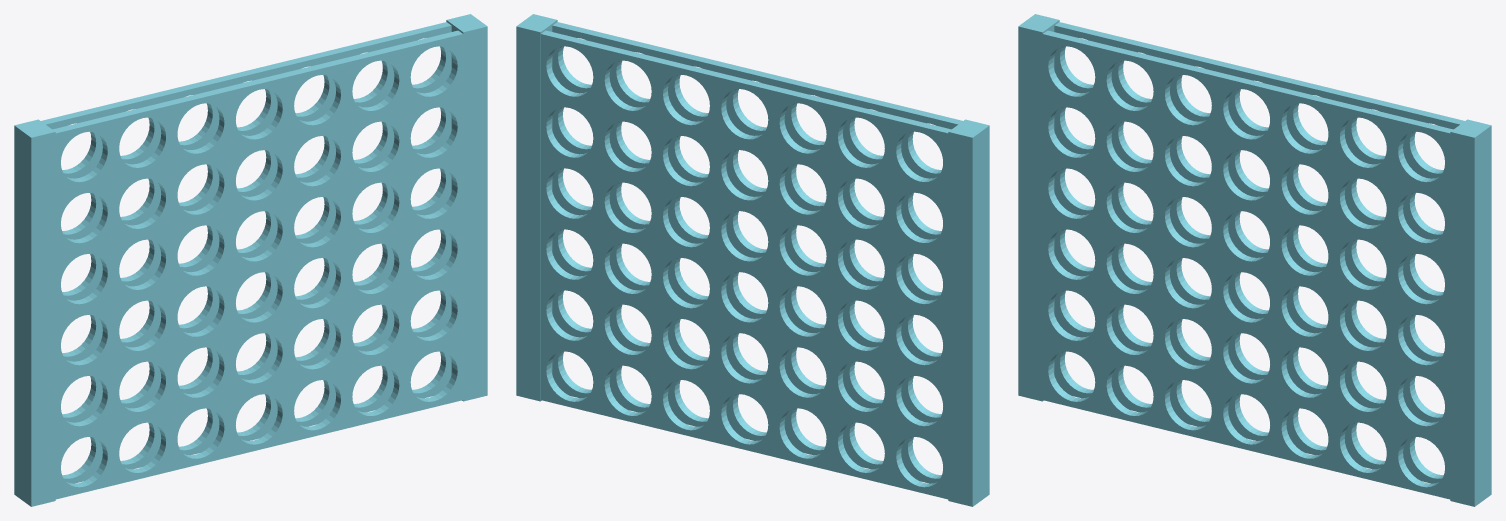
Rendered from Connect4Board.glb.
3 views of the same model, side by side, from view 1: azimuth 30°, elevation 25°; view 2: azimuth 150°, elevation 25°; view 3: azimuth 330°, elevation 25° (orthographic).
Visible parts, largest first — view 1: Column.001, Column, Unit.037, Unit.041, Unit.035, Unit.039, Unit.038, Unit.036, Unit.040, Unit.009, Unit, Unit.023 (+74 smaller); view 2: Column.001, Column, Unit.083, Unit.079, Unit.077, Unit.078, Unit.080, Unit.082, Unit.081, Unit.044, Unit.051, Unit.047 (+74 smaller); view 3: Column, Column.001, Unit.035, Unit.041, Unit.036, Unit.040, Unit.038, Unit.039, Unit.037, Unit.007, Unit.021, Unit (+74 smaller).
Boxes of the visible parts, left/top/right/bottom form: Column.001: left=14, top=119, right=55, bottom=506; Column: left=446, top=14, right=487, bottom=401; Unit.037: left=284, top=59, right=346, bottom=137; Unit.041: left=225, top=73, right=288, bottom=151; Unit.035: left=167, top=87, right=229, bottom=165; Unit.039: left=400, top=30, right=463, bottom=108; Unit.038: left=342, top=44, right=404, bottom=123; Unit.036: left=109, top=101, right=171, bottom=179; Unit.040: left=52, top=116, right=113, bottom=194; Unit.009: left=288, top=306, right=346, bottom=381; Unit: left=230, top=382, right=288, bottom=456; Unit.023: left=288, top=184, right=346, bottom=259; Column.001: left=948, top=119, right=989, bottom=506; Column: left=516, top=14, right=557, bottom=401; Unit.083: left=715, top=73, right=778, bottom=151; Unit.079: left=657, top=59, right=719, bottom=137; Unit.077: left=774, top=87, right=836, bottom=165; Unit.078: left=832, top=101, right=894, bottom=180; Unit.080: left=599, top=44, right=661, bottom=123; Unit.082: left=890, top=116, right=951, bottom=194; Unit.081: left=541, top=30, right=603, bottom=108; Unit.044: left=657, top=367, right=715, bottom=442; Unit.051: left=657, top=306, right=715, bottom=381; Unit.047: left=890, top=424, right=948, bottom=499; Column: left=1450, top=119, right=1491, bottom=506; Column.001: left=1018, top=14, right=1059, bottom=401; Unit.035: left=1159, top=59, right=1221, bottom=137; Unit.041: left=1217, top=73, right=1280, bottom=151; Unit.036: left=1101, top=44, right=1163, bottom=123; Unit.040: left=1042, top=30, right=1105, bottom=108; Unit.038: left=1334, top=101, right=1396, bottom=179; Unit.039: left=1392, top=116, right=1453, bottom=194; Unit.037: left=1276, top=87, right=1338, bottom=165; Unit.007: left=1159, top=306, right=1217, bottom=381; Unit.021: left=1159, top=184, right=1217, bottom=259; Unit: left=1217, top=382, right=1275, bottom=456.
Size of the model in its own units: 7.83 by 6.05 by 0.5052.
